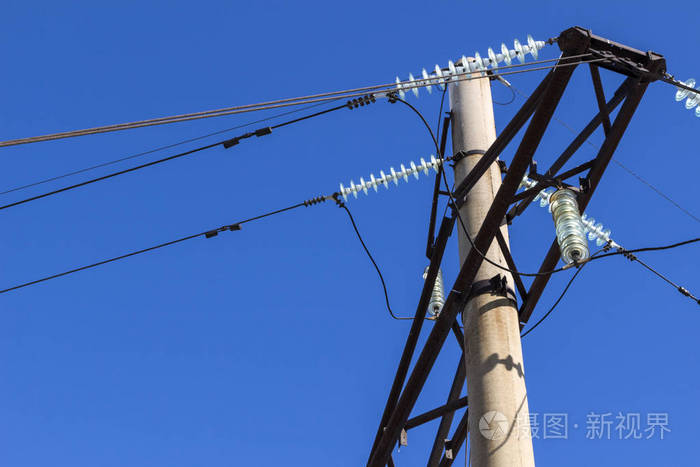insulator: (395, 35, 542, 99), (523, 175, 611, 242), (339, 156, 442, 200), (551, 188, 588, 266), (677, 78, 700, 118), (427, 263, 444, 317)
